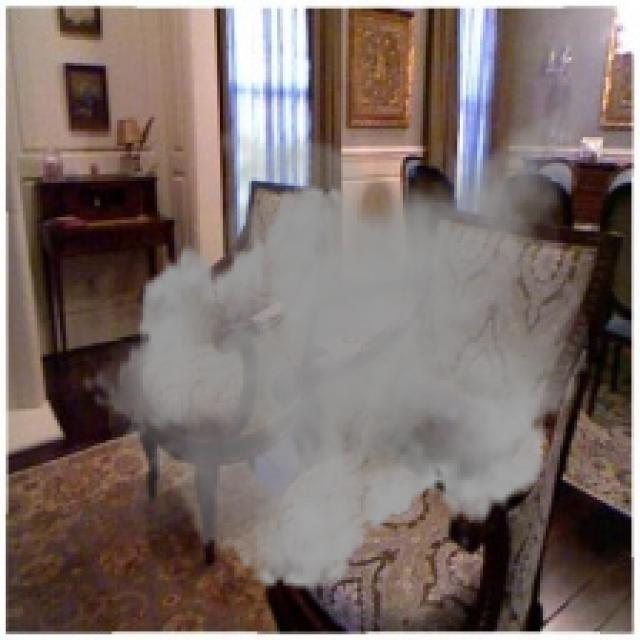Smoke: (80, 40, 609, 606)
